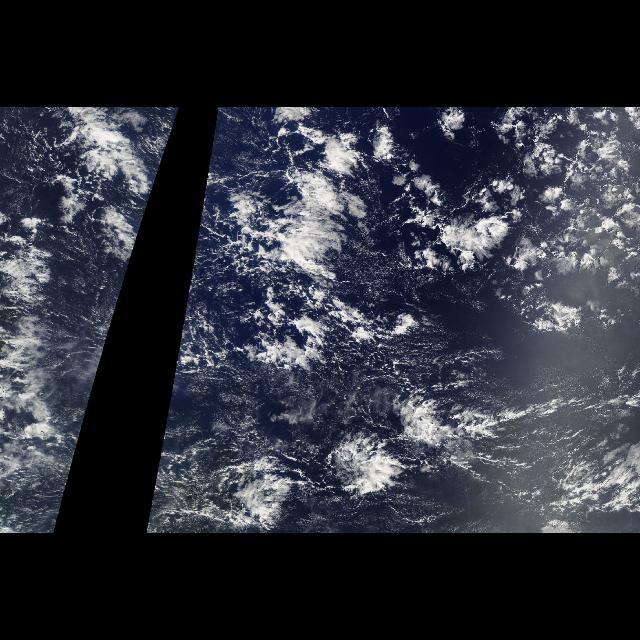Fish: (146, 110, 398, 526), (3, 110, 178, 526)
Flower: (391, 110, 637, 344)
Sugar: (160, 374, 324, 454), (61, 374, 97, 454)
